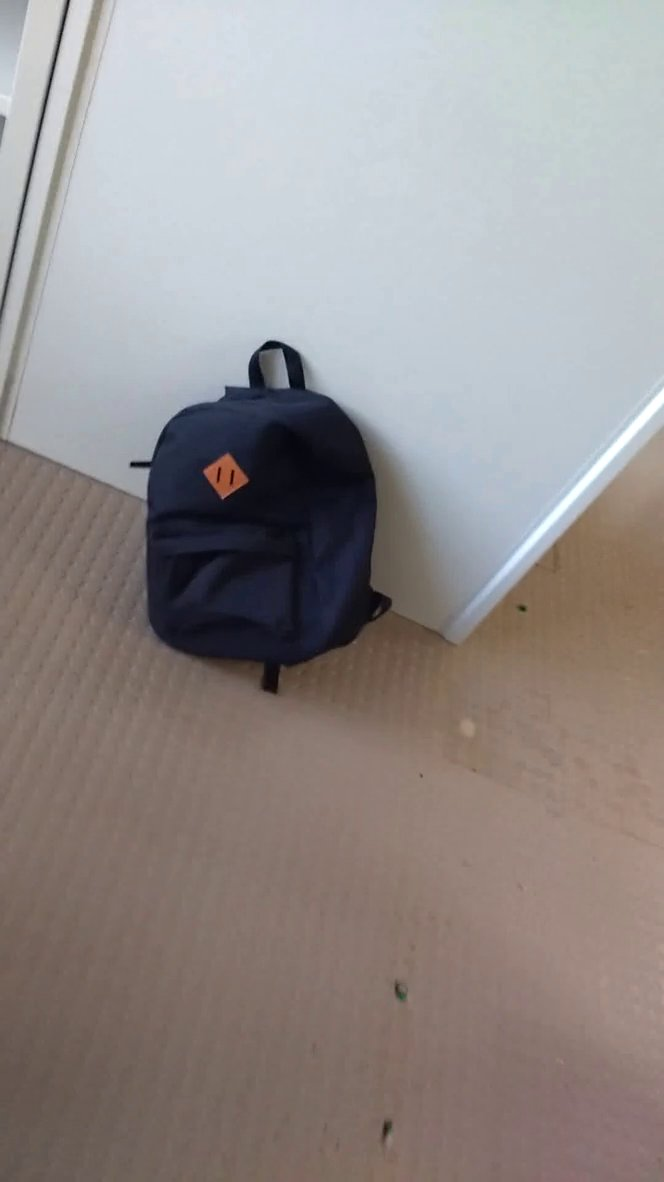bag: (115, 333, 409, 703)
